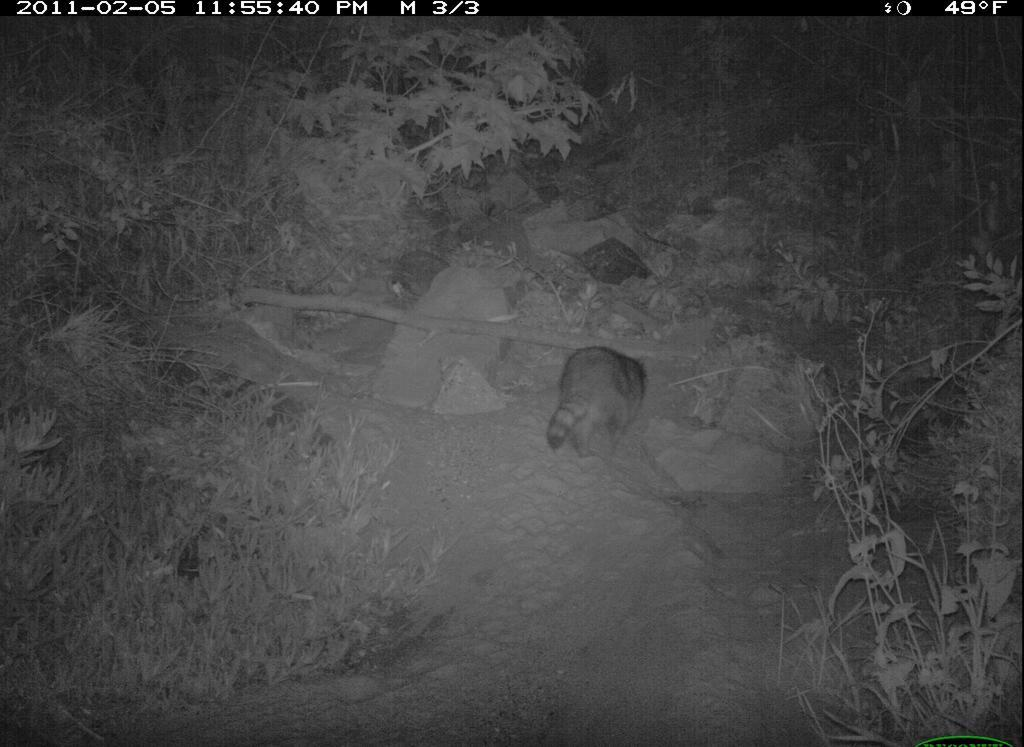raccoon: (545, 341, 653, 466)
